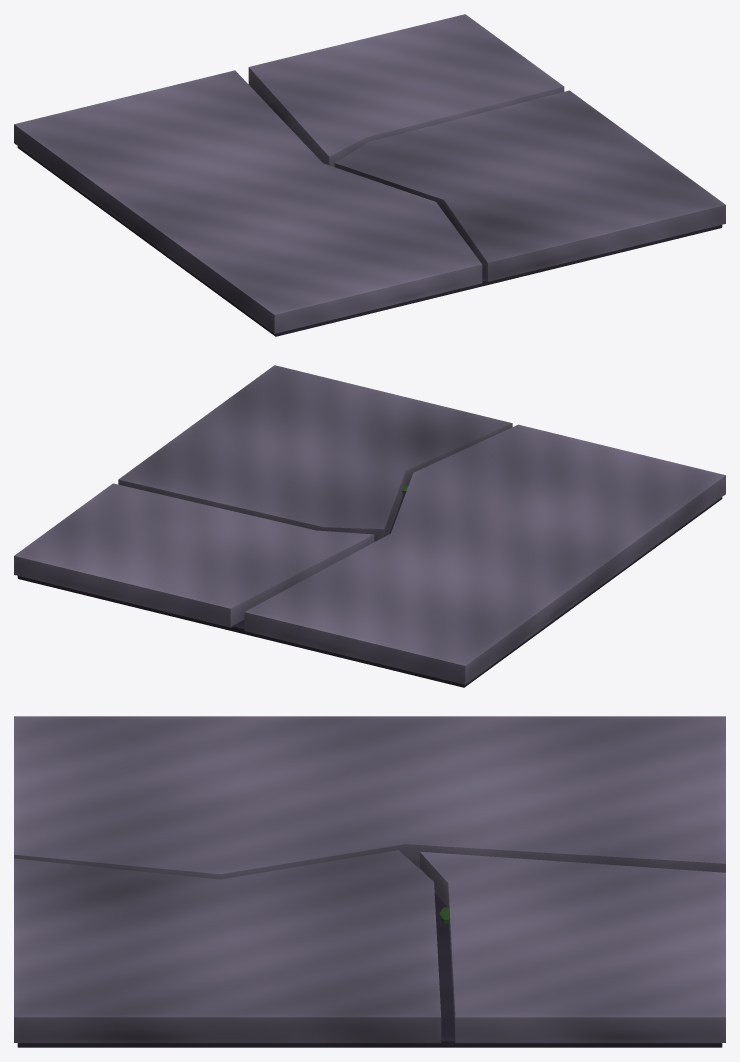
The model's file is Furn_Dun_Floor_Cracked.fbx.
3 renders of one model, top to bottom at view 1: azimuth 30°, elevation 25°; view 2: azimuth 150°, elevation 25°; view 3: azimuth 270°, elevation 25°, orthographic. The views are drawn at different scales.
Parts seen in each view (by area): view 1: Furn_Dun_Floor_Cracked; view 2: Furn_Dun_Floor_Cracked; view 3: Furn_Dun_Floor_Cracked.
Boxes of the visible parts, <box> form: Furn_Dun_Floor_Cracked: <box>14,14,725,336</box>; Furn_Dun_Floor_Cracked: <box>14,365,725,687</box>; Furn_Dun_Floor_Cracked: <box>14,716,725,1047</box>.
Bounding box in the file's own units: 2 × 0.1 × 2.
3 materials, 3 textured.
